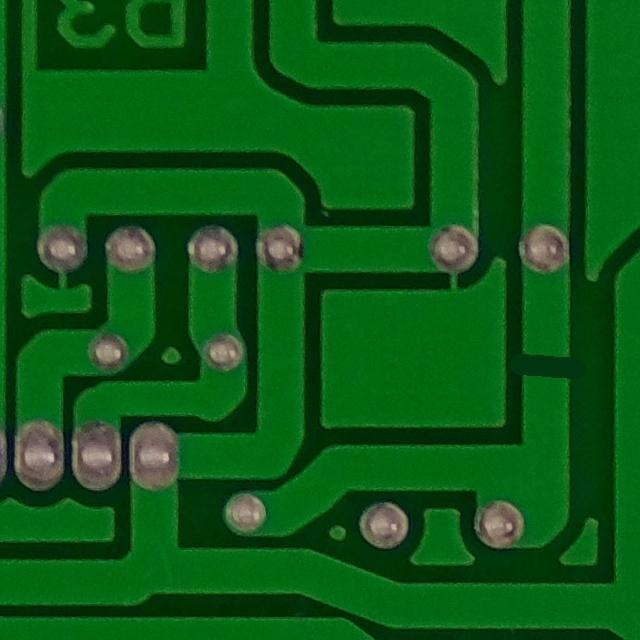open_circuit: (508, 337, 588, 397)
